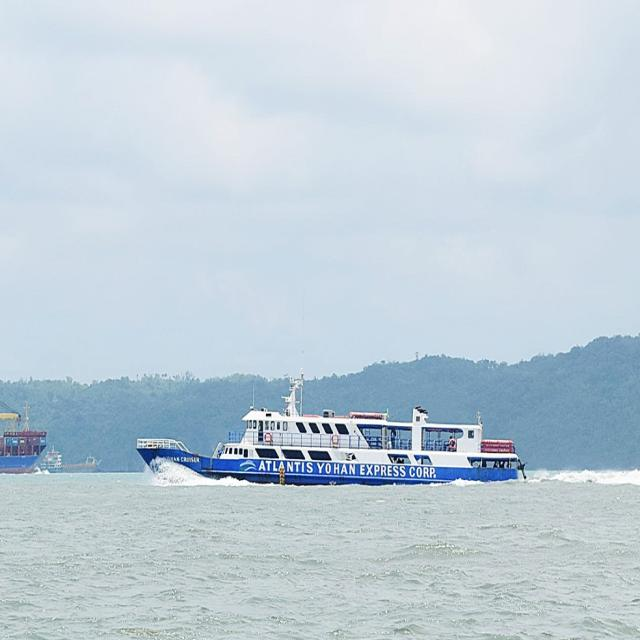houseboat: (128, 360, 535, 496)
